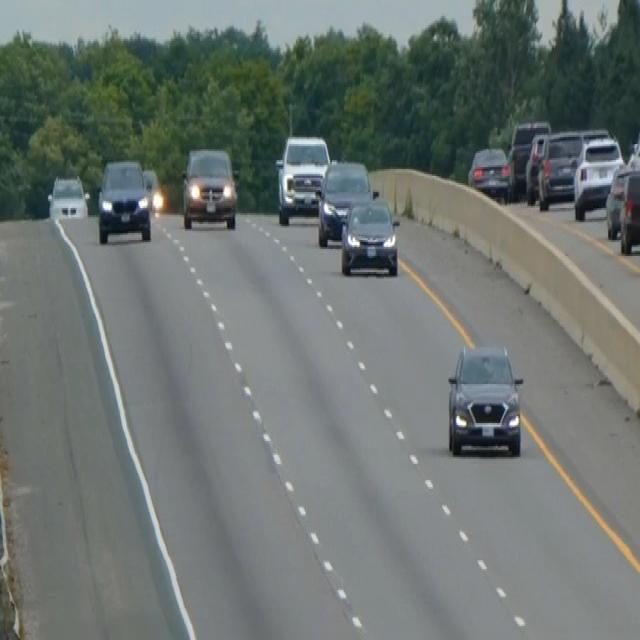car: (317, 157, 374, 246), (340, 192, 400, 276), (96, 156, 152, 244), (572, 133, 624, 219), (536, 128, 583, 210), (507, 118, 551, 198), (467, 144, 511, 203), (605, 162, 638, 240), (46, 172, 89, 220), (524, 130, 550, 202), (618, 166, 639, 254), (141, 166, 161, 212)
jeep: (444, 338, 525, 460), (274, 132, 331, 224)
minivan: (180, 144, 238, 229)
